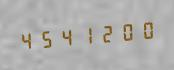five: (37, 24, 56, 52)
four: (17, 26, 36, 54), (57, 22, 76, 50)
one: (77, 20, 96, 49)
two: (97, 19, 116, 47)
zero: (117, 17, 136, 45), (137, 15, 156, 43)
